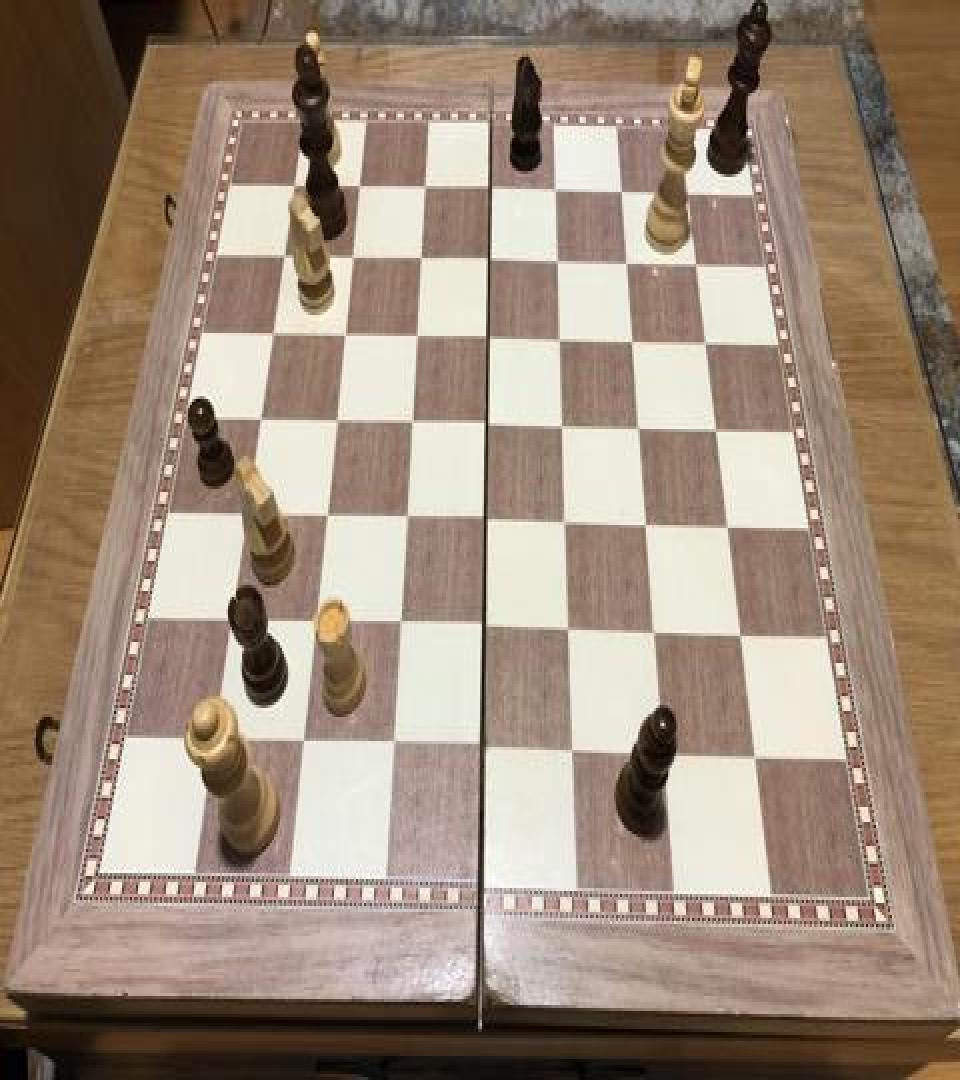xcorner: (643, 616, 667, 653), (289, 727, 313, 764), (677, 176, 701, 212), (610, 174, 634, 210), (413, 171, 437, 207), (347, 170, 371, 206), (282, 168, 306, 204), (685, 248, 709, 284), (616, 246, 640, 282), (546, 244, 570, 280), (477, 243, 501, 279), (409, 242, 433, 278), (340, 240, 364, 276), (272, 238, 296, 274), (694, 326, 718, 362), (621, 324, 645, 360), (549, 322, 573, 358), (476, 321, 500, 357), (404, 320, 428, 356), (332, 318, 356, 354), (260, 316, 284, 352), (628, 411, 652, 447), (551, 410, 575, 446), (475, 408, 499, 444), (399, 406, 423, 442), (323, 404, 347, 440), (247, 402, 271, 438), (716, 510, 740, 546), (635, 508, 659, 544), (554, 506, 578, 542), (473, 504, 497, 540), (393, 502, 417, 538), (313, 500, 337, 536), (233, 498, 257, 534), (729, 618, 753, 654), (557, 614, 581, 650), (472, 612, 496, 648), (387, 609, 411, 645), (302, 608, 326, 644), (218, 604, 242, 640), (743, 741, 767, 777), (652, 738, 676, 774), (561, 735, 585, 771), (470, 732, 494, 768), (379, 730, 403, 766), (200, 724, 224, 760), (544, 173, 568, 208), (479, 173, 503, 208), (705, 413, 729, 448)
